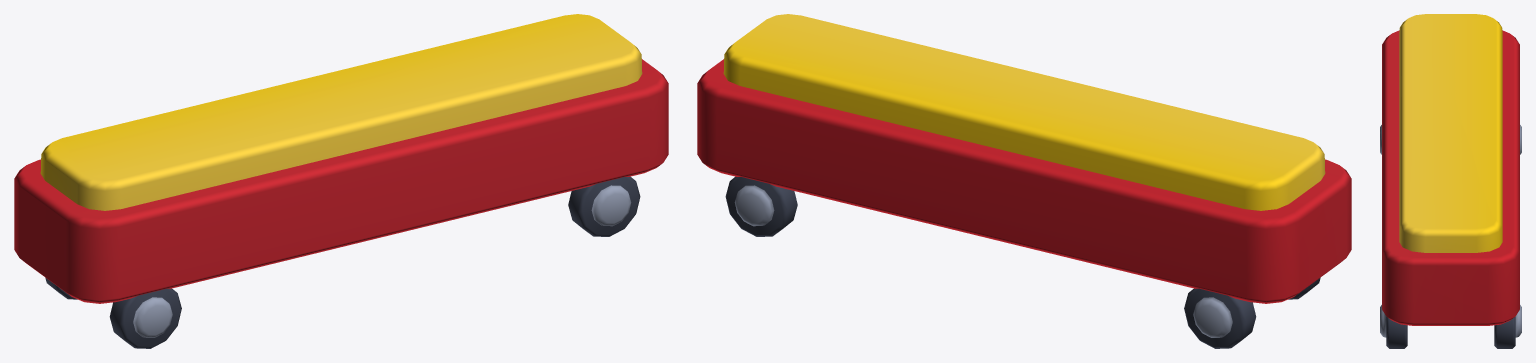
Rendered from Slider_4.fbx.
3 renders of one model, left to right at view 1: azimuth 30°, elevation 25°; view 2: azimuth 150°, elevation 25°; view 3: azimuth 270°, elevation 25°, orthographic. The views are drawn at different scales.
Parts seen in each view (by area): view 1: Slider 4; view 2: Slider 4; view 3: Slider 4.
Part boxes in pixels (x1=…): Slider 4: x1=14, y1=14, x2=668, y2=348; Slider 4: x1=697, y1=14, x2=1351, y2=348; Slider 4: x1=1380, y1=14, x2=1521, y2=348.
Bounding box in the file's own units: 399 × 107 × 102.
